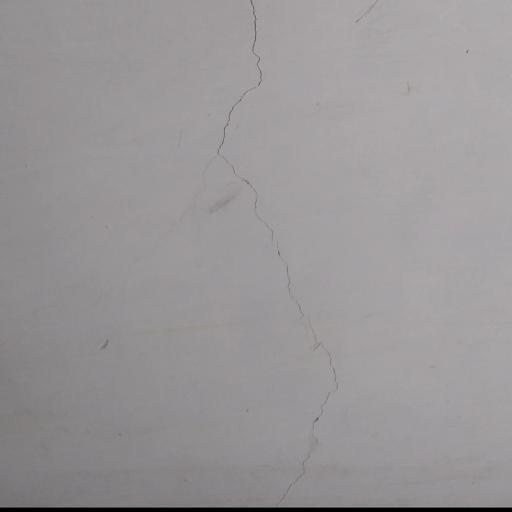minor_crack: (209, 0, 344, 506)
